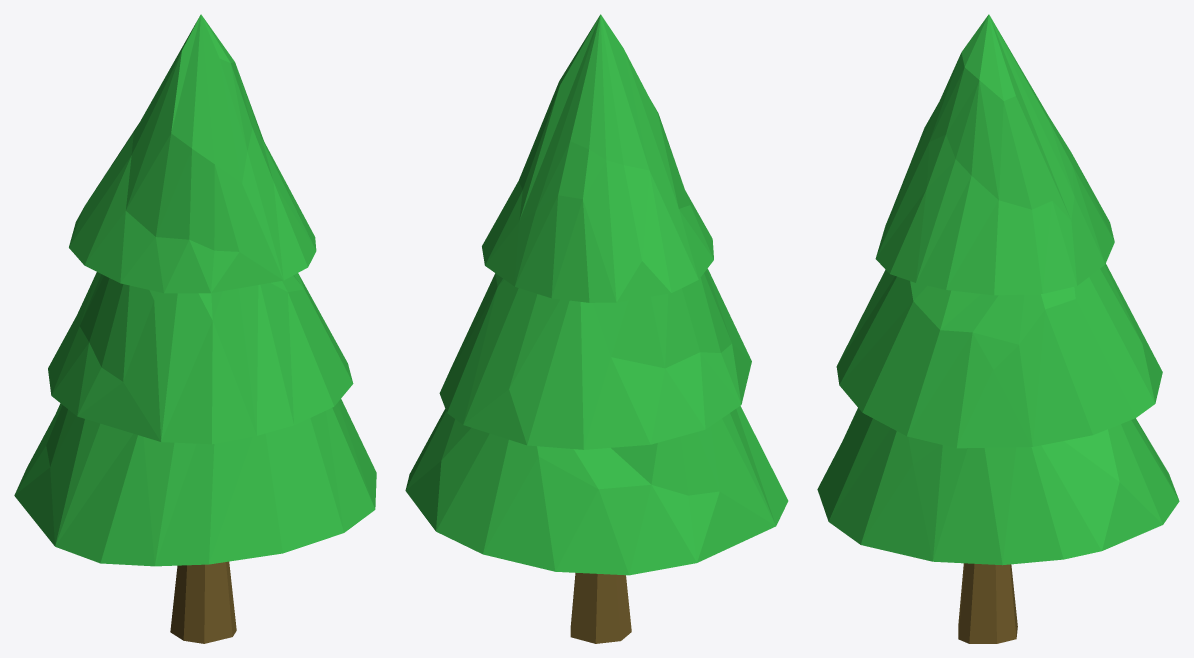
File: SpruceTree.fbx
3 views of the same model, side by side, from view 1: azimuth 30°, elevation 25°; view 2: azimuth 150°, elevation 25°; view 3: azimuth 270°, elevation 25° (orthographic).
Visible parts, largest first — view 1: Spruce; view 2: Spruce; view 3: Spruce.
Boxes of the visible parts, box(x1,y1,x2,y2) form: Spruce: box(14, 14, 376, 643); Spruce: box(405, 14, 788, 643); Spruce: box(817, 14, 1179, 643).
Size of the model in its own units: 887 by 1630 by 867.
